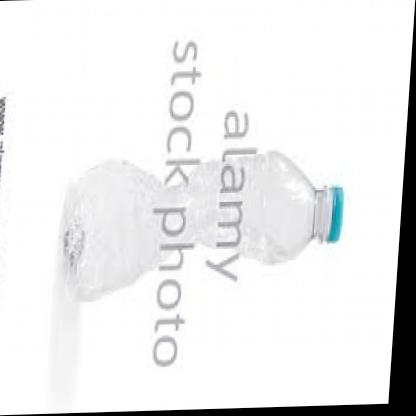Plastic: (58, 122, 354, 318)
